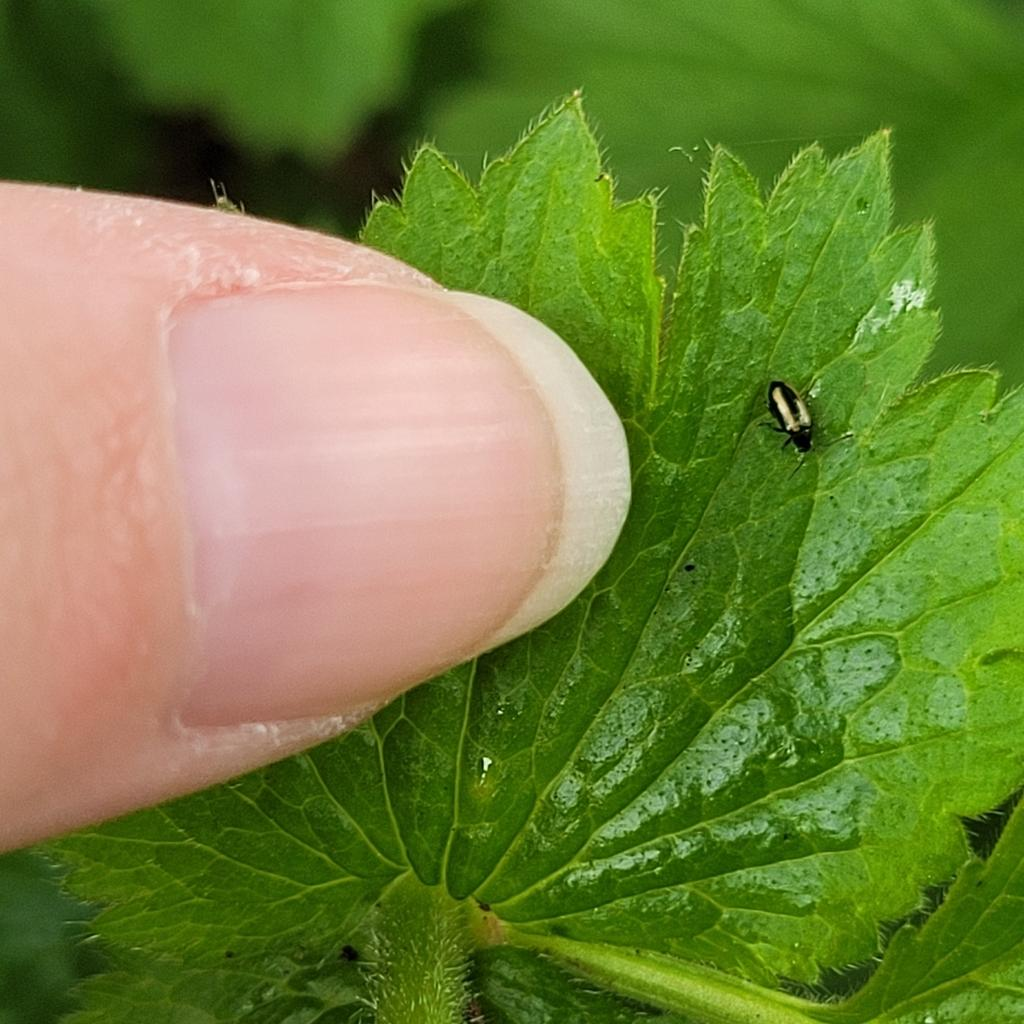flea_beetle: (745, 353, 861, 489)
